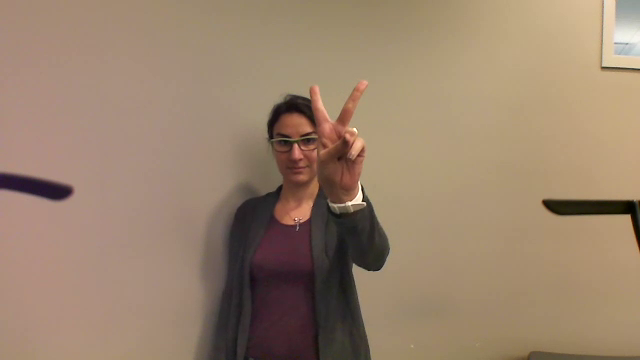peace: (303, 81, 375, 198)
